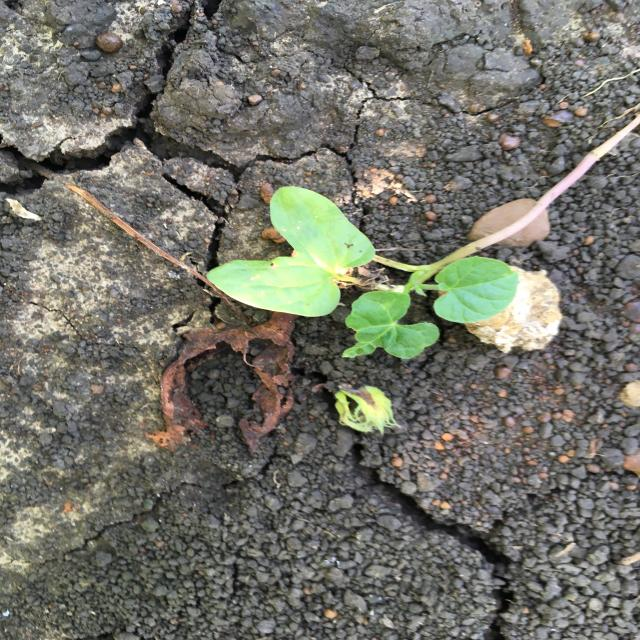MorningGlory: (204, 185, 524, 362)
